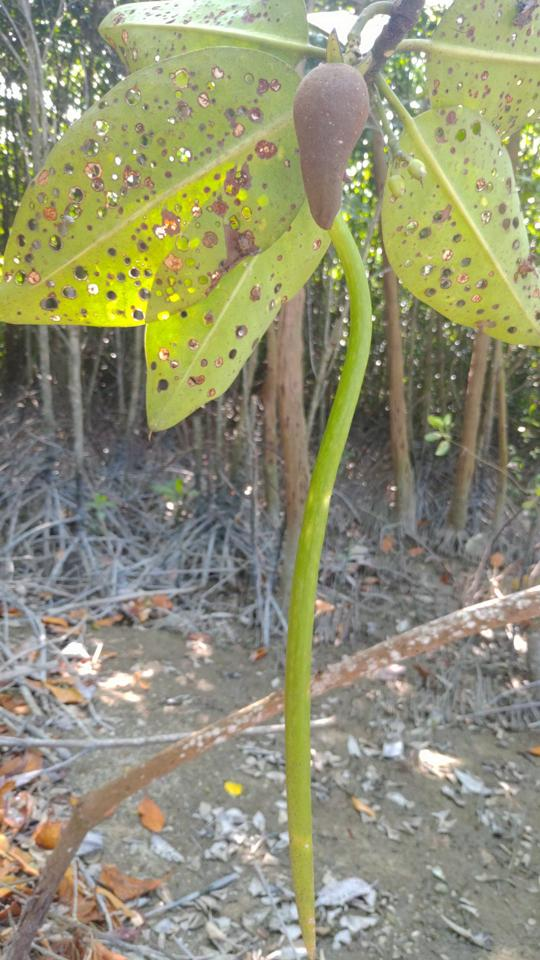mentah: (252, 18, 405, 959)
